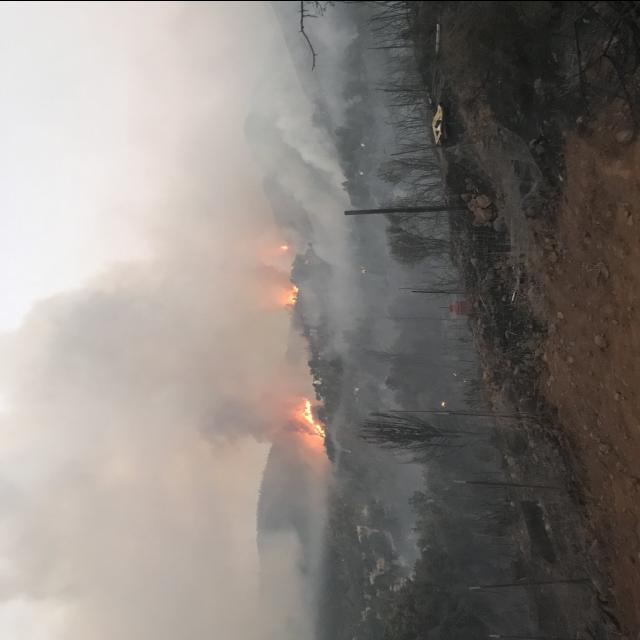Fire: (295, 397, 331, 439), (284, 280, 304, 306)
